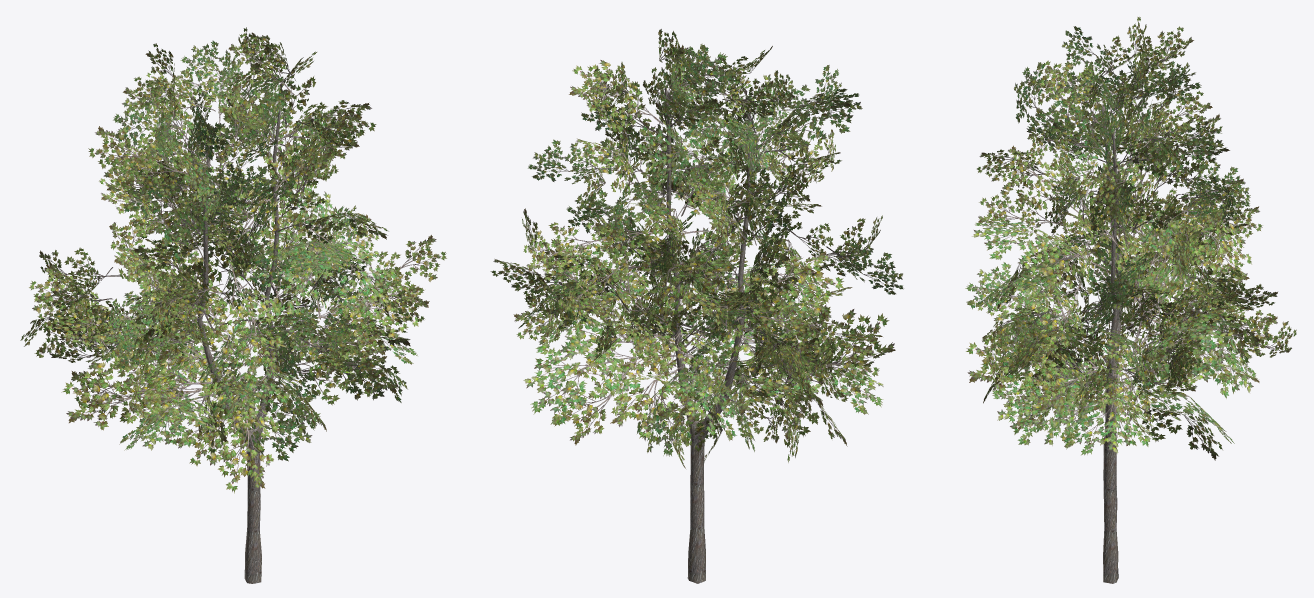
File: Japanese_Maple_LowPoly.fbx
3 views of the same model, side by side, from view 1: azimuth 30°, elevation 25°; view 2: azimuth 150°, elevation 25°; view 3: azimuth 270°, elevation 25° (orthographic). The views are drawn at different scales.
Parts seen in each view (by area): view 1: Japanese_Maple_Mobile_23; view 2: Japanese_Maple_Mobile_23; view 3: Japanese_Maple_Mobile_23.
Boxes of the visible parts, x1=… form: Japanese_Maple_Mobile_23: x1=20, y1=27, x2=446, y2=583; Japanese_Maple_Mobile_23: x1=490, y1=29, x2=903, y2=583; Japanese_Maple_Mobile_23: x1=965, y1=17, x2=1296, y2=583.
Size of the model in its own units: 2.06 by 2.75 by 1.64.
4 materials, 4 textured.
